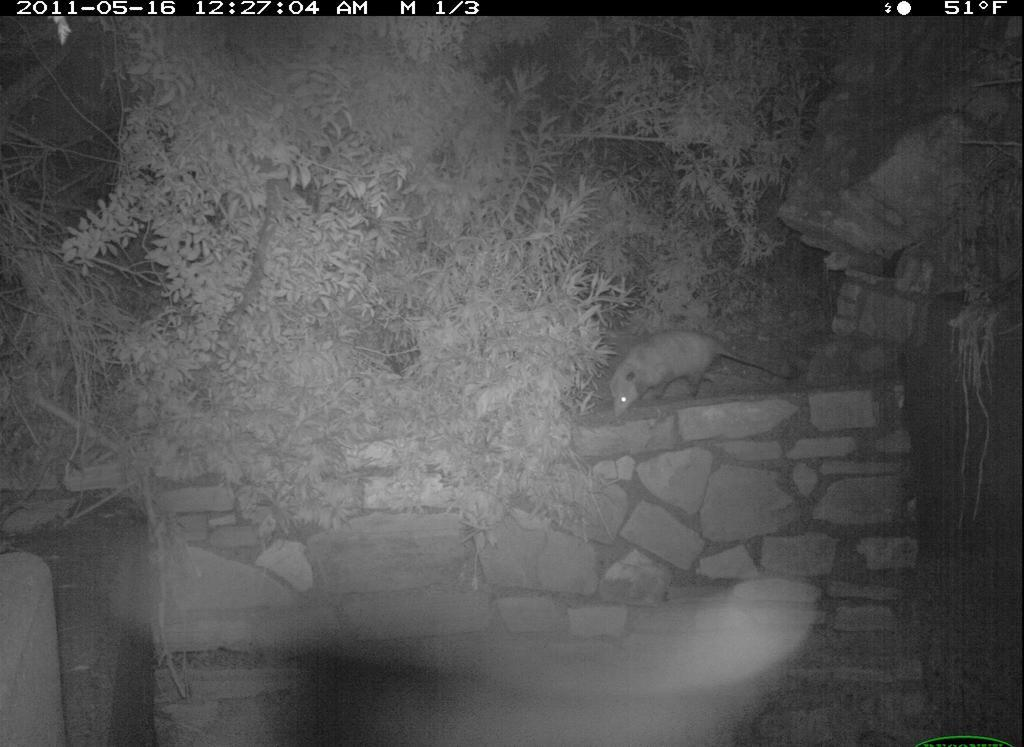opossum: (597, 324, 821, 441)
